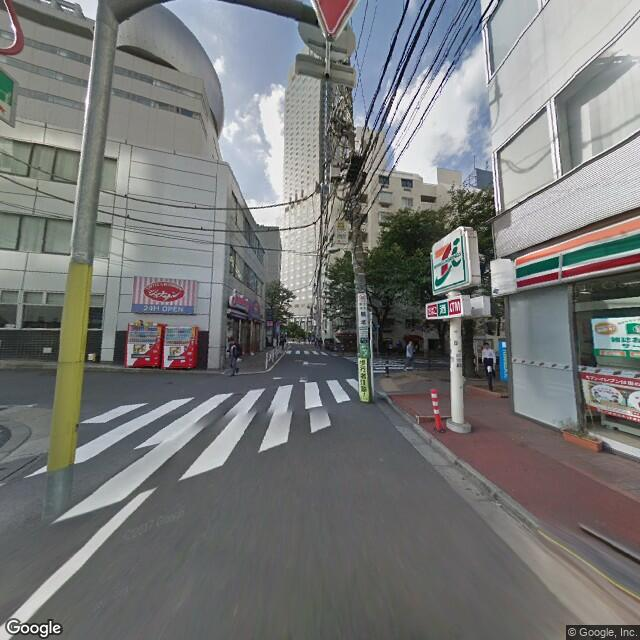7-eleven: (511, 208, 639, 296), (430, 229, 468, 291)
